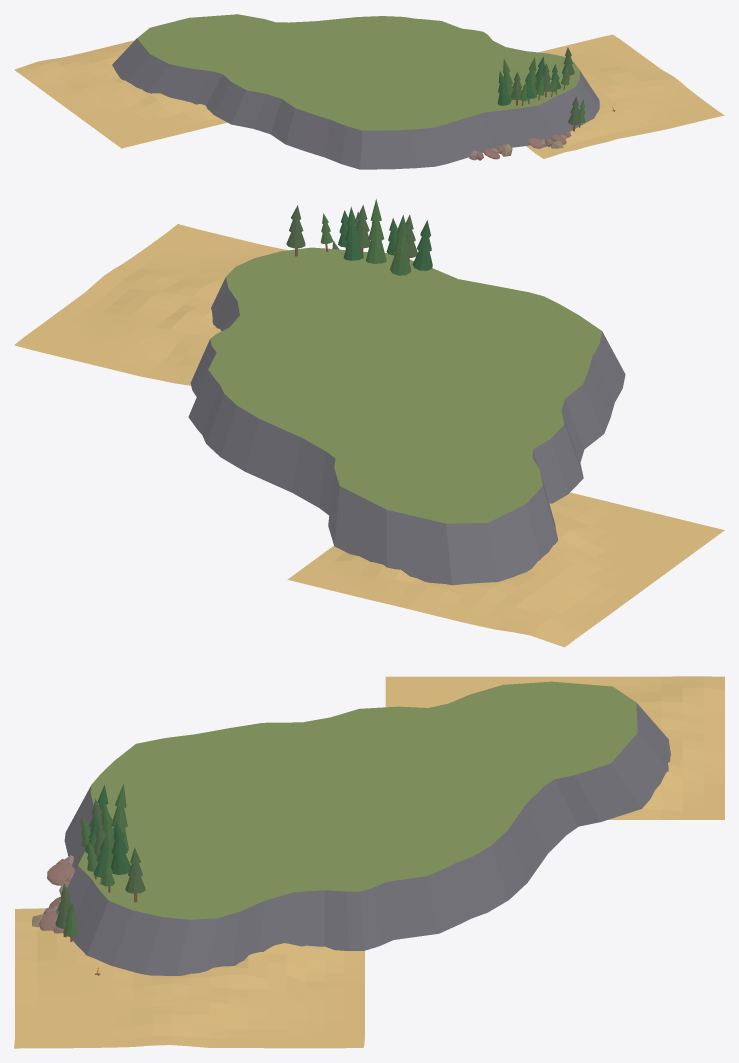
The model's file is island2.glb.
The picture shows the model from 3 angles, top to bottom: view 1: azimuth 30°, elevation 25°; view 2: azimuth 150°, elevation 25°; view 3: azimuth 270°, elevation 25°; orthographic projection. The views are drawn at different scales.
Parts seen in each view (by area): view 1: Cylinder.050, Plane.023, Plane.022, Cone.031; view 2: Cylinder.050, Plane.022, Plane.023, Cone.030, Cone.032; view 3: Cylinder.050, Plane.023, Plane.022, Cone.029.
Boxes of the visible parts, x1=… form: Cylinder.050: x1=112, y1=14, x2=599, y2=169; Plane.023: x1=526, y1=34, x2=724, y2=158; Plane.022: x1=14, y1=40, x2=226, y2=148; Cone.031: x1=497, y1=71, x2=511, y2=105; Cylinder.050: x1=188, y1=247, x2=625, y2=585; Plane.022: x1=287, y1=492, x2=724, y2=647; Plane.023: x1=14, y1=224, x2=287, y2=385; Cone.030: x1=365, y1=199, x2=386, y2=263; Cone.032: x1=390, y1=215, x2=410, y2=275; Cylinder.050: x1=55, y1=681, x2=670, y2=975; Plane.023: x1=14, y1=908, x2=364, y2=1048; Plane.022: x1=385, y1=676, x2=724, y2=819; Cone.029: x1=111, y1=821, x2=130, y2=874.
Bounding box in the file's own units: 20.44 × 3.48 × 16.44.
